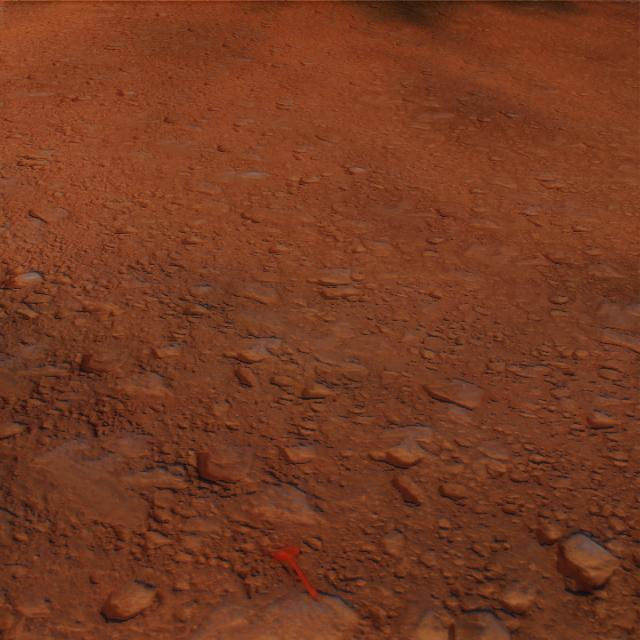newhammer: (274, 545, 318, 598)
